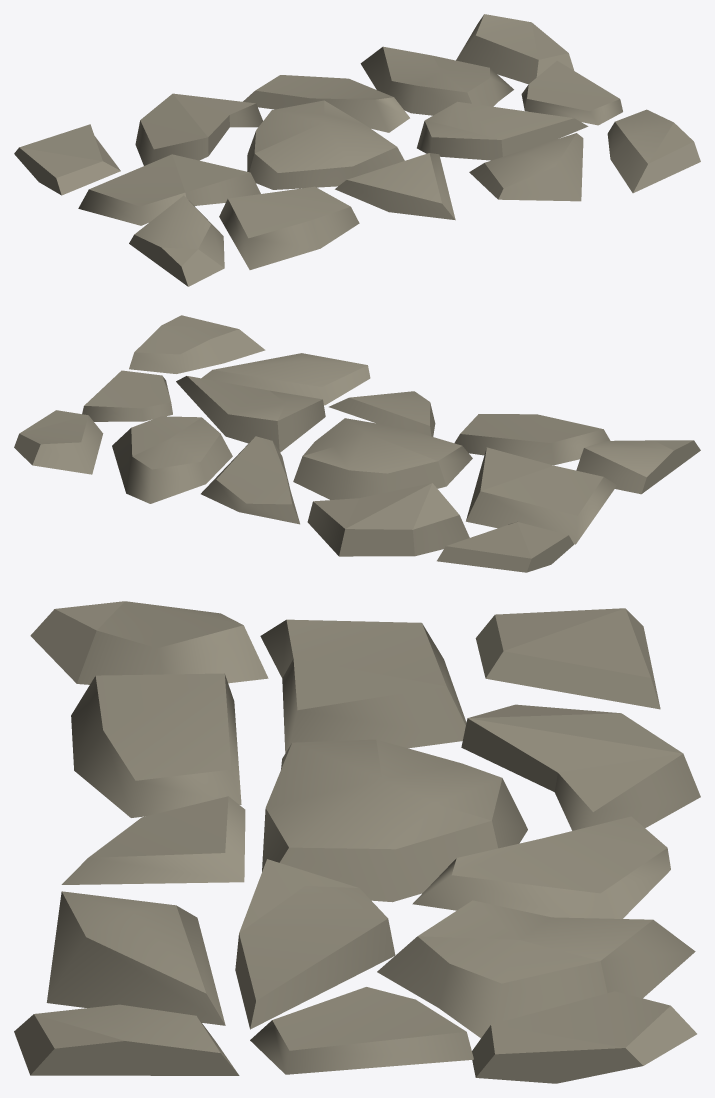
Rendered from Stone_Path_H.glb.
3 renders of one model, top to bottom at view 1: azimuth 30°, elevation 25°; view 2: azimuth 150°, elevation 25°; view 3: azimuth 270°, elevation 25°, orthographic. The views are drawn at different scales.
Parts seen in each view (by area): view 1: Stone_Path_H; view 2: Stone_Path_H; view 3: Stone_Path_H.
Part boxes in pixels (x1,y1,x2,y2): Stone_Path_H: (14, 14, 700, 286); Stone_Path_H: (14, 315, 700, 572); Stone_Path_H: (14, 601, 700, 1083).
Bounding box in the file's own units: 1.47 × 0.1501 × 0.9686.
